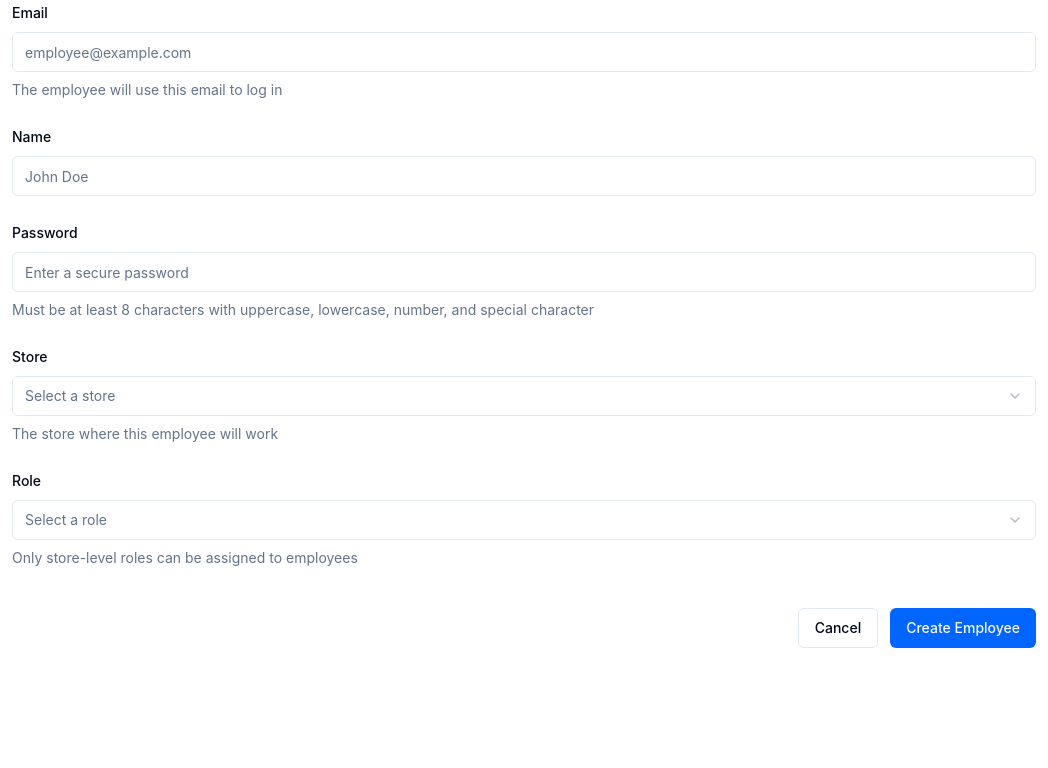
2.91-COMPONENT: EmployeeForm - Password Validation › [P0] 2.91-COMPONENT-010: should reject password shorter than 8 characters
The width and height of the screenshot is (1048, 768).
Fill in fields
Type "test@test.com" into the field with test id "employee-email".
click(524, 52); type("test@test.com")  # box 12,32 -> 1036,72
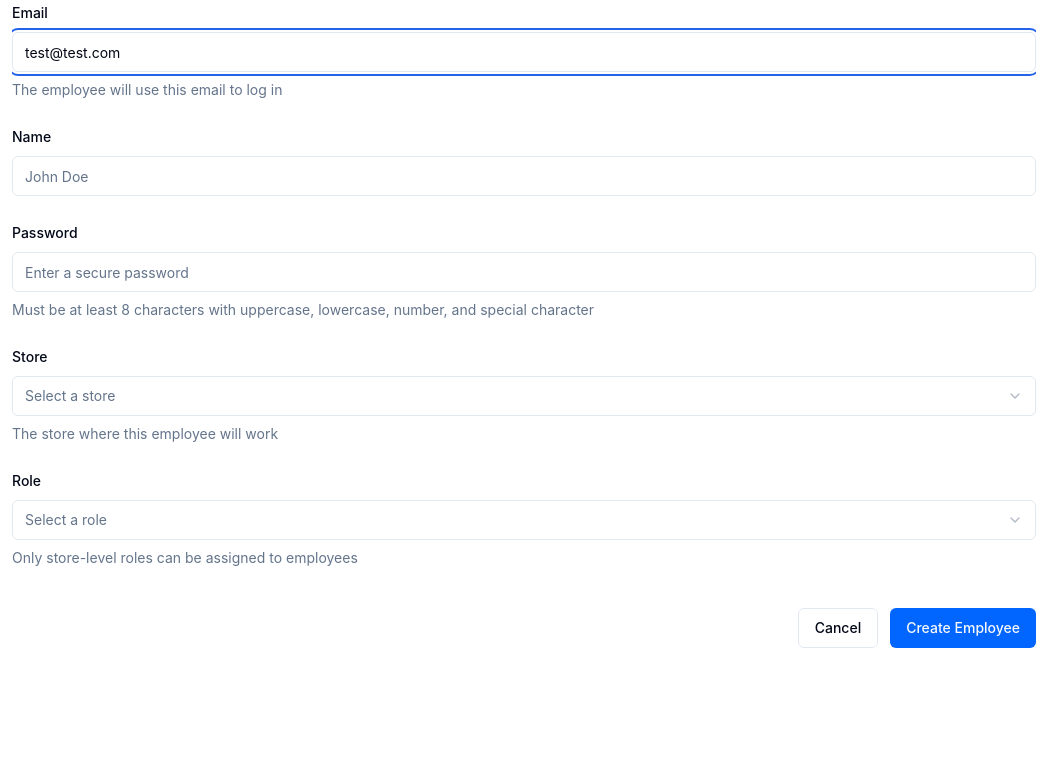
Type "Test User" into the field with test id "employee-name".
click(524, 176); type("Test User")  # box 12,156 -> 1036,196
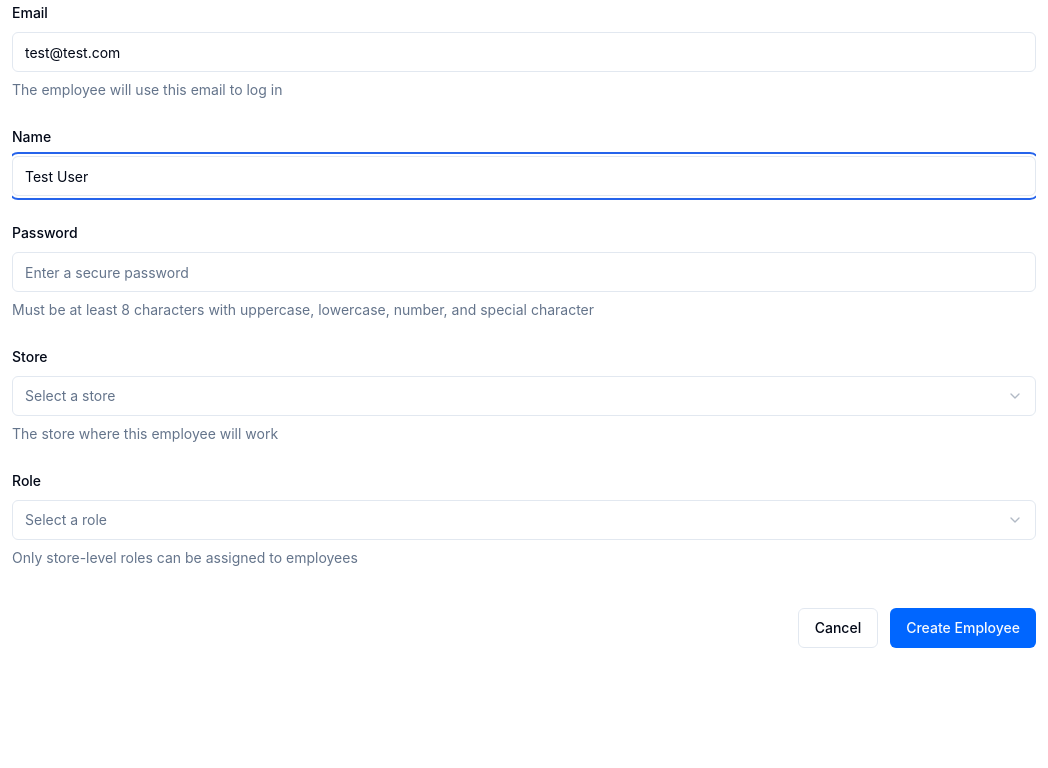
Type "Short1!" into the password field with test id "employee-password".
click(524, 272); type("Short1!")  # box 12,252 -> 1036,292
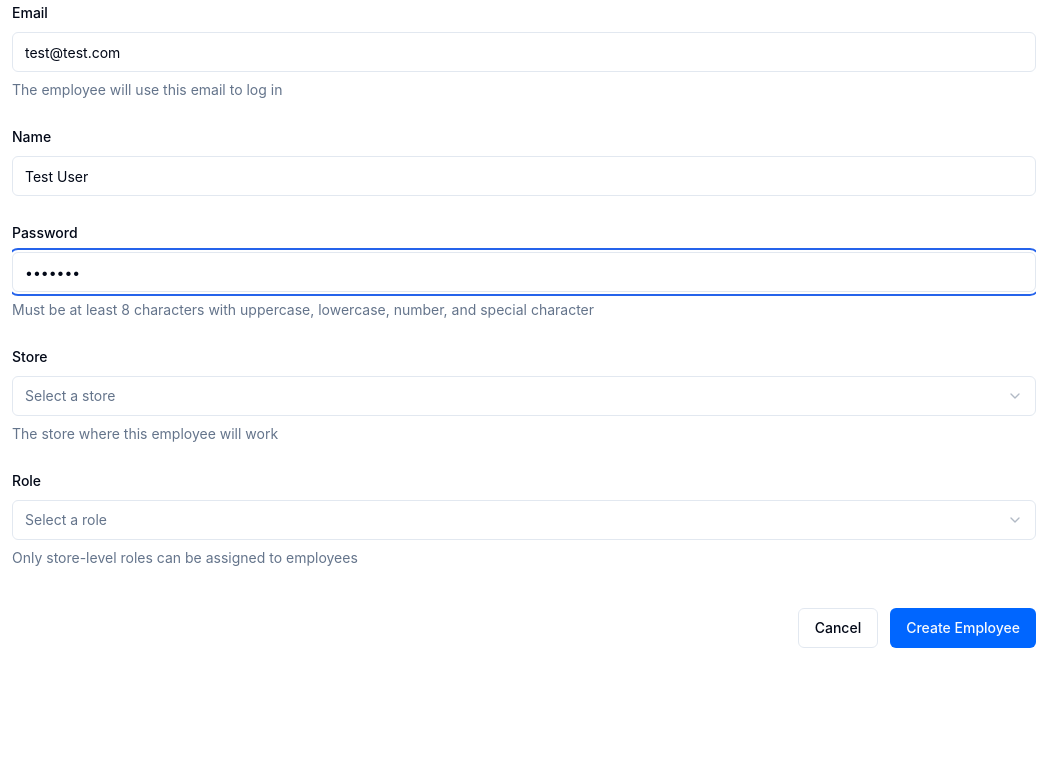
Form is submitted
Click the button with test id "submit-employee".
click(963, 628)  # box 890,608 -> 1036,648
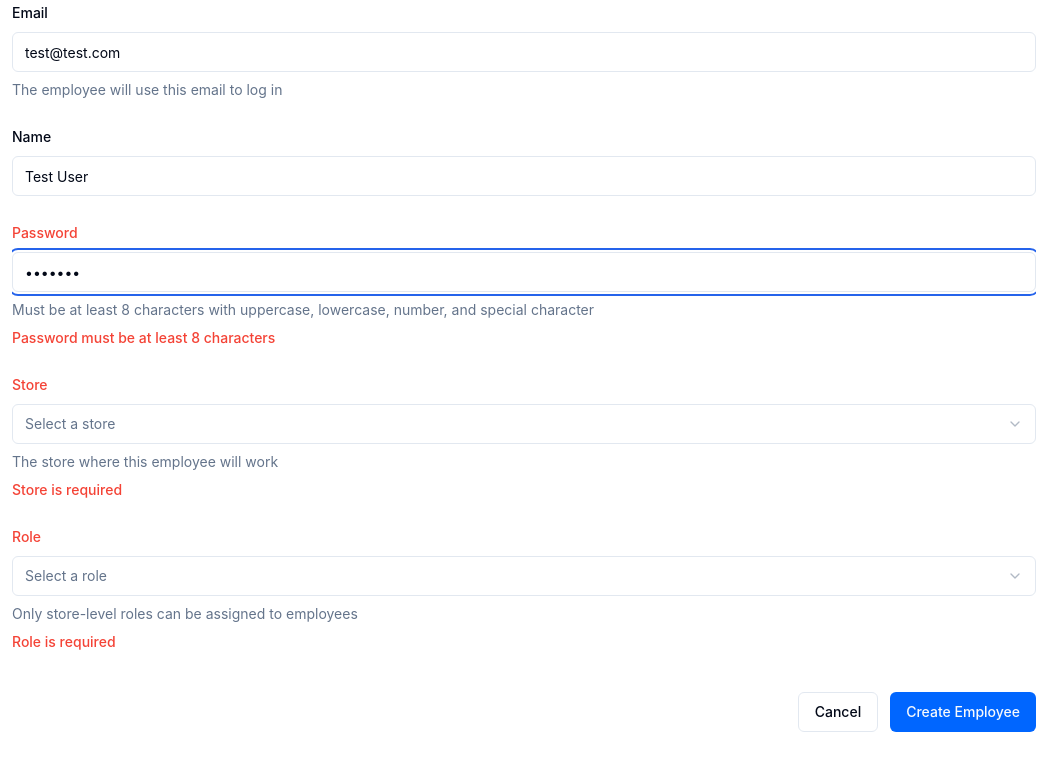
Expected: the text "Password must be at least 8 characters" is shown, 12,329 -> 275,346
